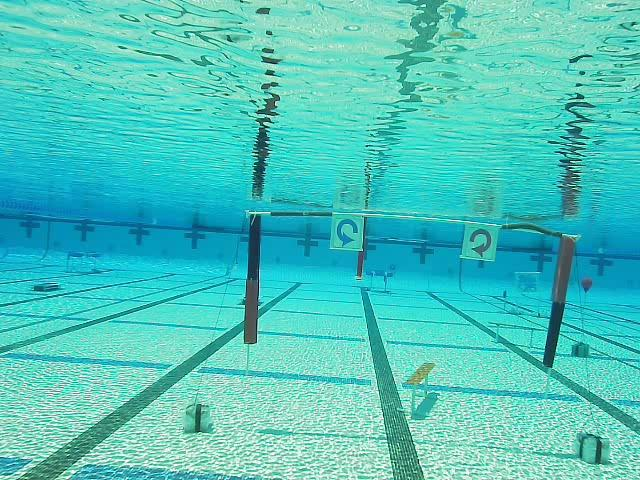buoy: (582, 277, 592, 293)
dropper: (34, 281, 62, 294)
gate: (245, 210, 582, 368)
gate_blue: (331, 217, 362, 250)
gate_leg_l: (245, 216, 261, 344)
gate_leg_r: (543, 237, 575, 368)
gate_red: (459, 224, 498, 262)
table: (64, 247, 103, 273), (366, 269, 394, 293)
torpedo: (514, 271, 542, 296)
